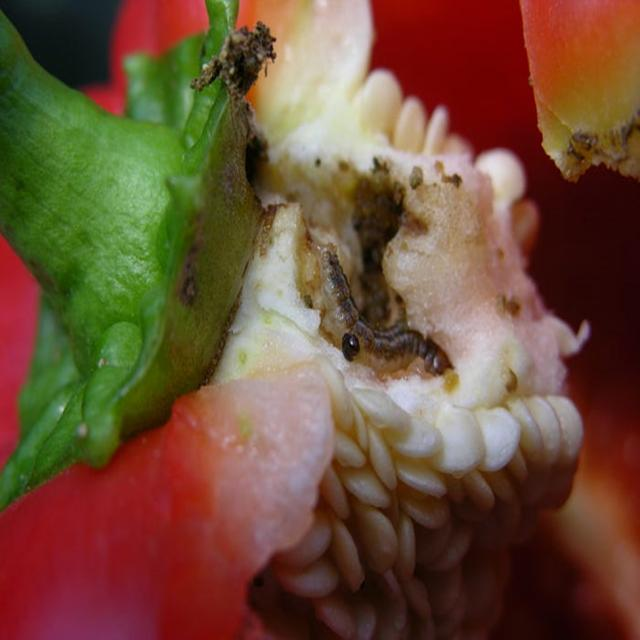cornborer-Larva-: (318, 238, 456, 392)
